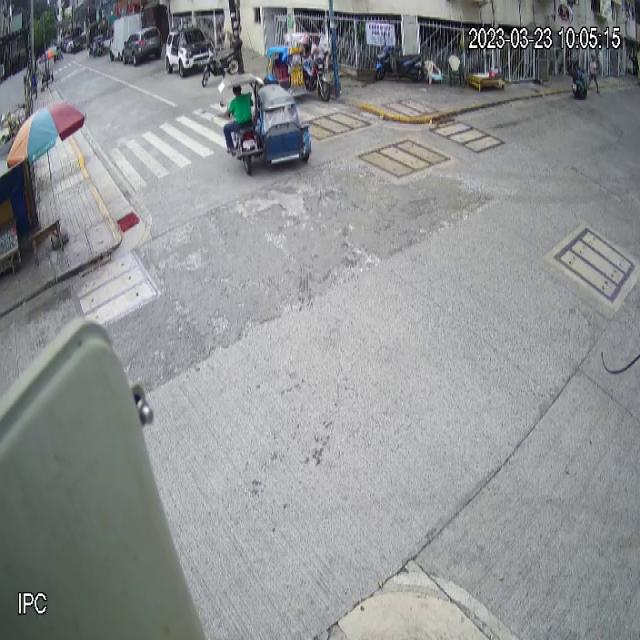Tricycle: (219, 72, 312, 176)
